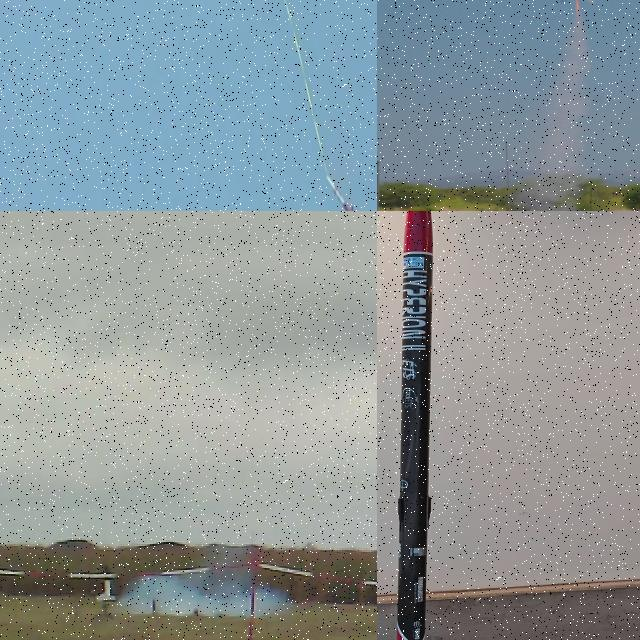Rocket: (397, 211, 433, 640), (324, 169, 356, 211), (96, 564, 120, 602)
